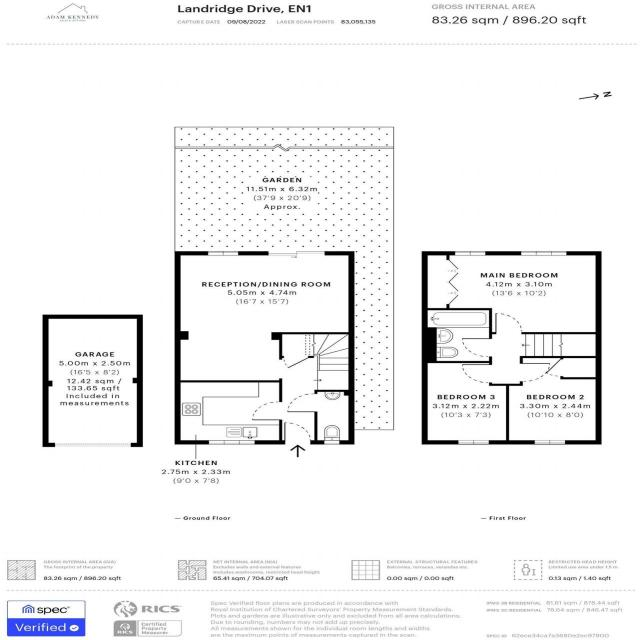DOOR: (460, 337, 492, 358), (284, 422, 311, 445), (461, 364, 492, 384), (252, 401, 282, 421), (520, 363, 551, 382), (495, 313, 523, 334), (287, 393, 317, 412)
ROOM: (174, 251, 355, 383), (421, 251, 602, 334), (506, 356, 602, 445), (421, 361, 510, 445), (174, 380, 283, 445)
SLIDING DOOR: (264, 248, 328, 257)
WINDOW: (208, 440, 255, 445), (521, 251, 567, 256), (457, 440, 490, 445), (534, 440, 566, 445), (454, 251, 486, 256), (207, 251, 239, 256), (324, 440, 340, 445)
